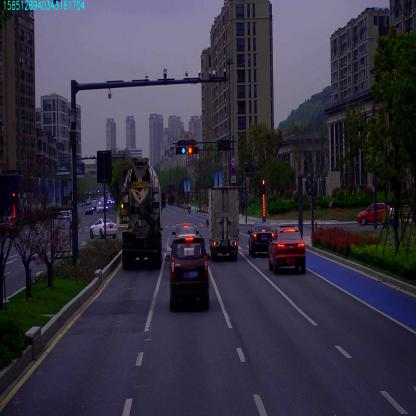traffic-light: (188, 146, 199, 156), (174, 146, 187, 154)
